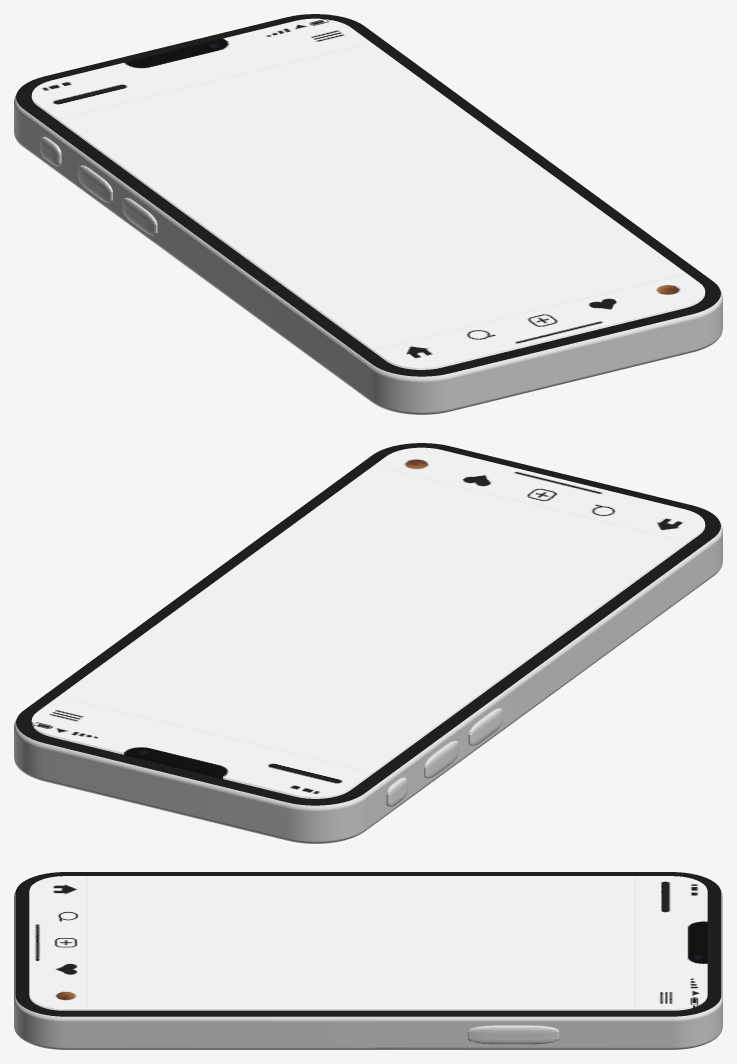
Rendered from phone_shatter.glb.
3 renders of one model, top to bottom at view 1: azimuth 30°, elevation 25°; view 2: azimuth 150°, elevation 25°; view 3: azimuth 270°, elevation 25°, orthographic. The views are drawn at different scales.
Parts seen in each view (by area): view 1: PhoneBot, PhoneTop, Shard_077, Shard_051, Shard_016, Shard_027, Shard_080, Shard_053, Shard_068, Shard_061, Shard_059, Shard_073 (+54 smaller); view 2: PhoneTop, PhoneBot, Shard_077, Shard_051, Shard_016, Shard_027, Shard_080, Shard_053, Shard_068, Shard_061, Shard_059, Shard_079 (+54 smaller); view 3: PhoneBot, PhoneTop, Shard_077, Shard_051, Shard_016, Shard_027, Shard_080, Shard_053, Shard_068, Shard_061, Shard_073, Shard_059 (+72 smaller).
Part boxes in pixels (x1,y1,x2,y2): PhoneBot: (155, 151, 722, 414); PhoneTop: (14, 14, 534, 243); Shard_077: (466, 243, 579, 303); Shard_051: (540, 252, 664, 304); Shard_016: (141, 173, 266, 230); Shard_027: (125, 73, 246, 109); Shard_080: (179, 128, 277, 184); Shard_053: (349, 302, 450, 348); Shard_068: (399, 259, 488, 314); Shard_061: (242, 203, 351, 257); Shard_059: (79, 123, 179, 181); Shard_073: (236, 152, 318, 203); PhoneTop: (14, 585, 499, 843); PhoneBot: (195, 443, 722, 732); Shard_077: (377, 507, 533, 557); Shard_051: (349, 472, 494, 515); Shard_016: (418, 654, 521, 713); Shard_027: (200, 717, 318, 763); Shard_080: (295, 675, 422, 707); Shard_053: (572, 529, 682, 574); Shard_068: (456, 523, 575, 567); Shard_061: (438, 602, 519, 655); Shard_059: (355, 701, 454, 759); Shard_079: (217, 753, 319, 795); PhoneBot: (14, 872, 439, 1049); PhoneTop: (374, 872, 722, 1049); Shard_077: (109, 933, 223, 984); Shard_051: (69, 952, 170, 1010); Shard_016: (375, 876, 490, 905); Shard_027: (582, 901, 679, 950); Shard_080: (441, 891, 537, 934); Shard_053: (90, 876, 181, 915); Shard_068: (116, 911, 207, 944); Shard_061: (270, 891, 394, 917); Shard_073: (392, 904, 480, 939); Shard_059: (486, 876, 604, 896).
Size of the model in its own units: 0.0731 by 0.00817 by 0.1467.
Materials: 5 (1 with a texture image).
